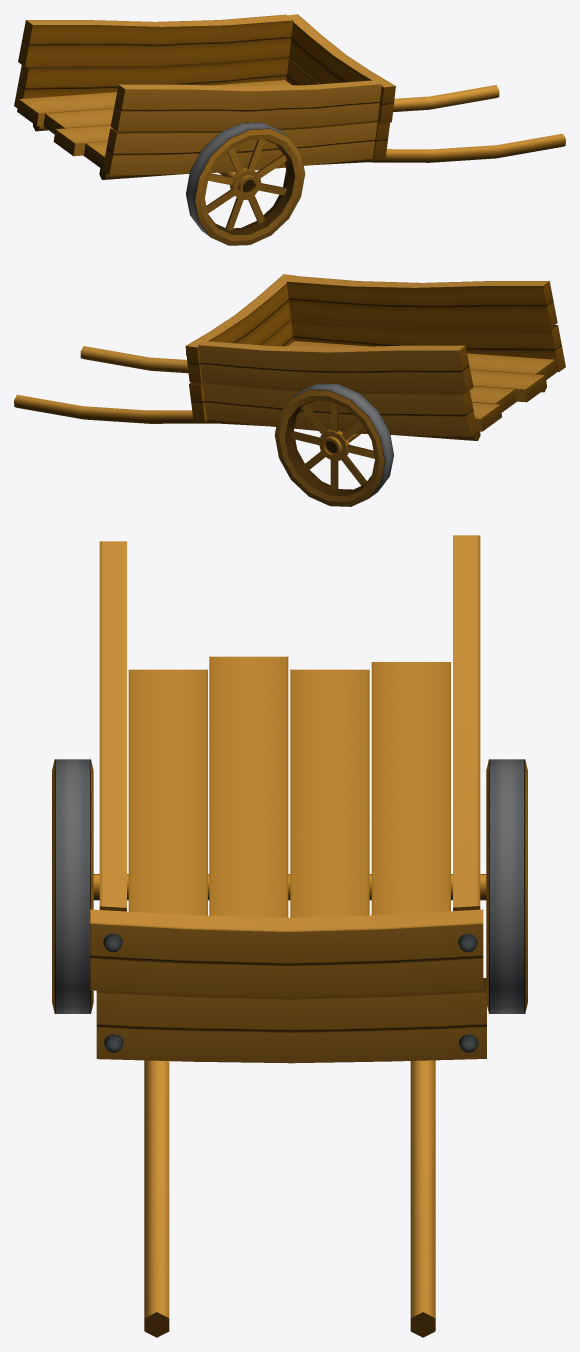
File: MESH_Charette01.fbx
3 renders of one model, top to bottom at view 1: azimuth 30°, elevation 25°; view 2: azimuth 150°, elevation 25°; view 3: azimuth 270°, elevation 25°, orthographic. The views are drawn at different scales.
Visible parts, largest first — view 1: MESH_Charette01; view 2: MESH_Charette01; view 3: MESH_Charette01.
Part boxes in pixels (x1,y1,x2,y2): MESH_Charette01: [14, 14, 565, 245]; MESH_Charette01: [14, 274, 565, 506]; MESH_Charette01: [52, 535, 527, 1337].
Bounding box in the file's own units: 3.97 × 1.42 × 1.72.
